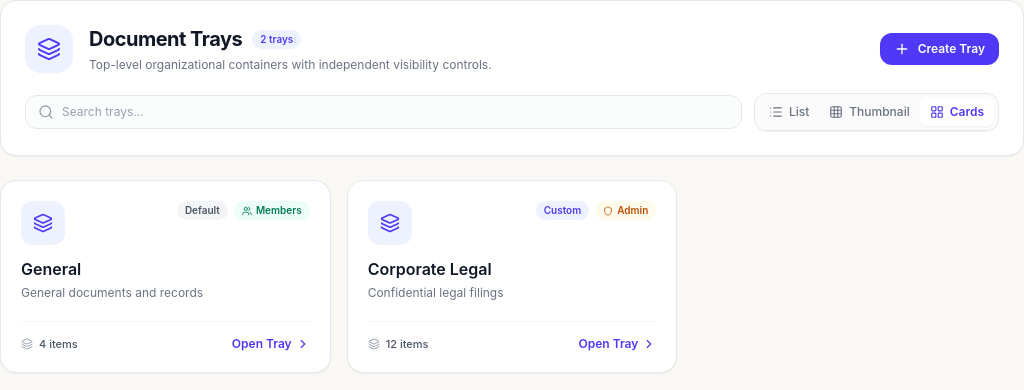
Test: TraysOverview - View Mode Switcher (List, Thumbnail, Cards) › filters trays using the search input
Type "Legal" into the field with placeholder "Search trays...".
click(395, 112); type("Legal")  # box [62, 104, 729, 120]
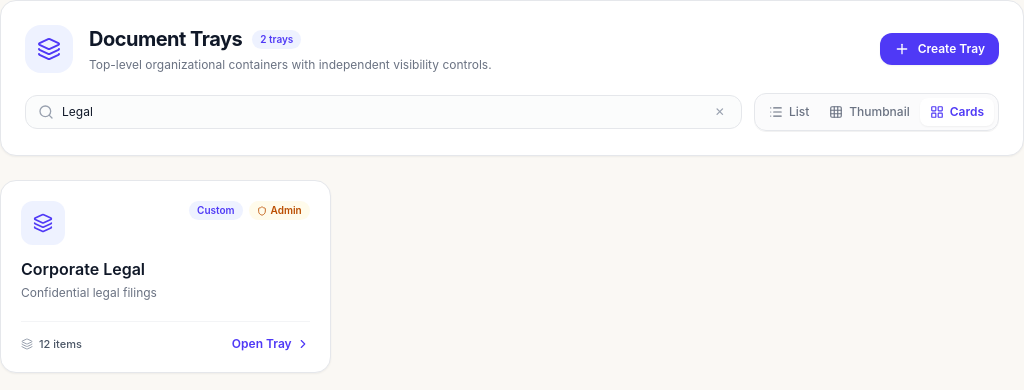
Check: the heading "Corporate Legal" is shown, box [21, 259, 145, 279]
Check: the heading "General" is gone
